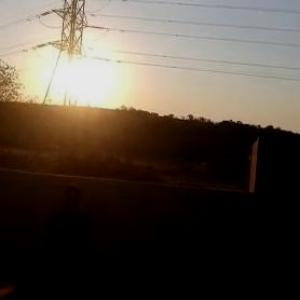follow: (31, 176, 93, 299)
